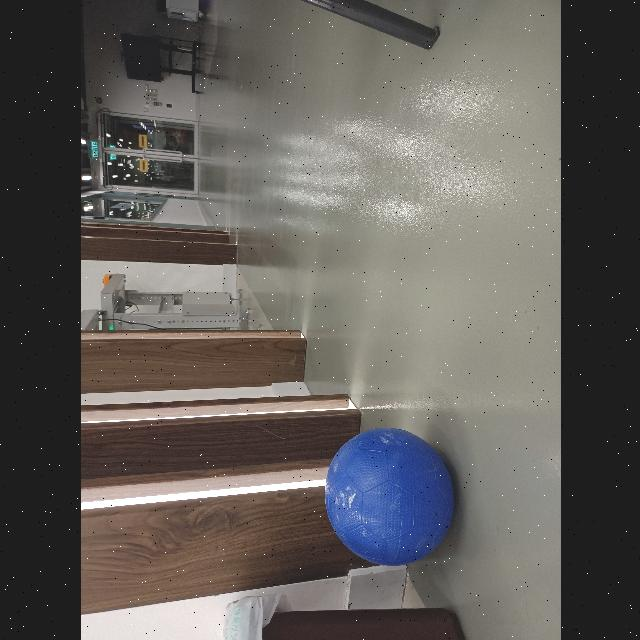B: (320, 424, 460, 568)
